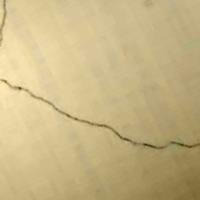crack: (3, 63, 199, 156)
